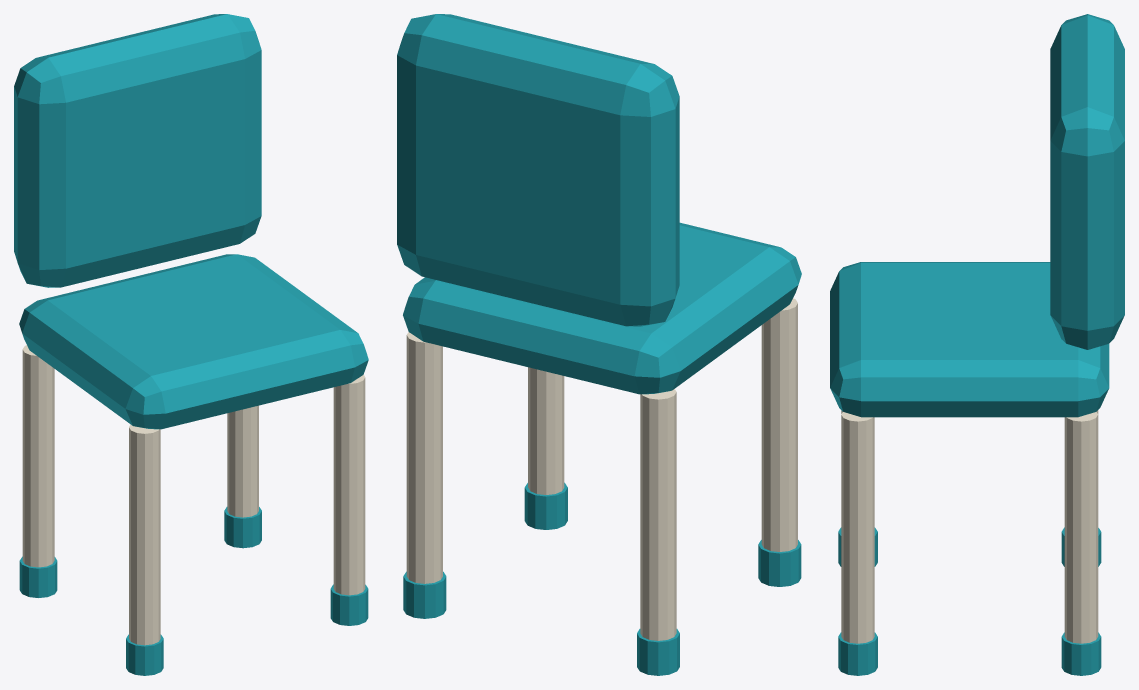
The model's file is visitor_chair_standard.glb.
3 renders of one model, left to right at view 1: azimuth 30°, elevation 25°; view 2: azimuth 150°, elevation 25°; view 3: azimuth 270°, elevation 25°, orthographic. The views are drawn at different scales.
Parts seen in each view (by area): view 1: STATIC_teal.026, STATIC_cream.023; view 2: STATIC_teal.026, STATIC_cream.023; view 3: STATIC_teal.026, STATIC_cream.023.
Part boxes in pixels (x1,y1,x2,y2): STATIC_teal.026: [14, 14, 368, 675]; STATIC_cream.023: [22, 345, 365, 645]; STATIC_teal.026: [397, 14, 801, 675]; STATIC_cream.023: [406, 298, 797, 640]; STATIC_teal.026: [830, 14, 1124, 675]; STATIC_cream.023: [841, 410, 1098, 643].
Size of the model in its own units: 0.47 by 0.985 by 0.475.
